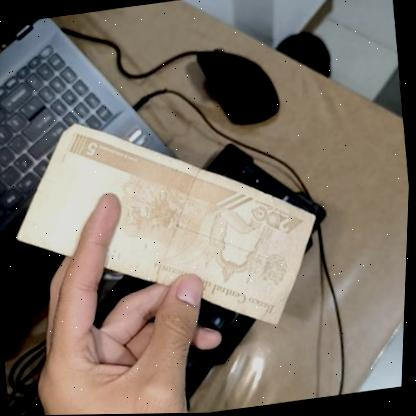five-back-vef: (0, 91, 334, 359)
